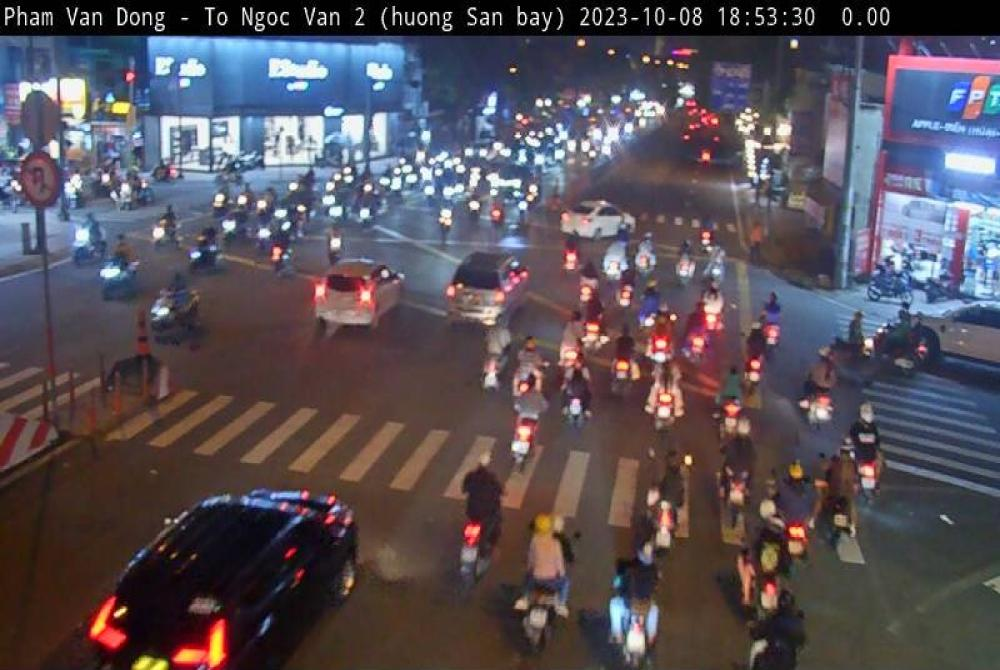car: (36, 468, 369, 670), (303, 242, 411, 350), (905, 287, 1000, 409), (436, 251, 524, 319), (550, 196, 644, 247)
